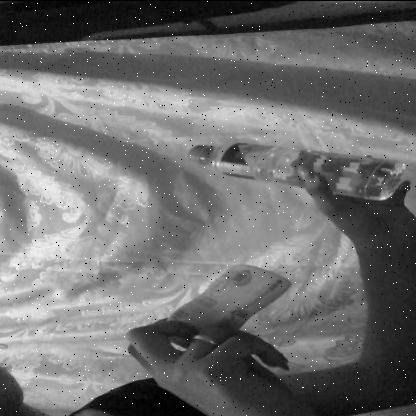Plastic Bottle: (130, 121, 416, 218)
